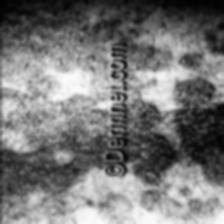Toxin: (0, 8, 95, 224), (132, 35, 224, 224)
